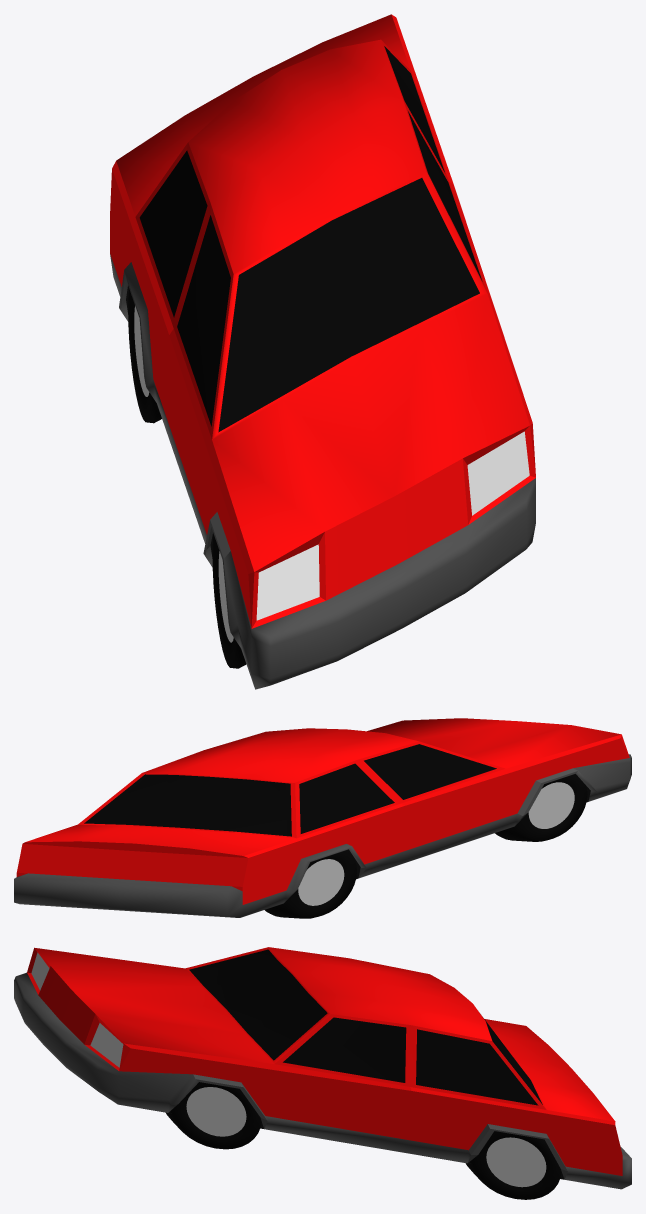
The model's file is car_smacked.fbx.
The picture shows the model from 3 angles, top to bottom: view 1: azimuth 30°, elevation 25°; view 2: azimuth 150°, elevation 25°; view 3: azimuth 270°, elevation 25°; orthographic projection. The views are drawn at different scales.
Parts seen in each view (by area): view 1: Car; view 2: Car; view 3: Car.
Part boxes in pixels (left/top/right/bottom): Car: left=110, top=14, right=535, bottom=689; Car: left=14, top=718, right=631, bottom=918; Car: left=14, top=947, right=631, bottom=1199.
Bounding box in the file's own units: 337 × 129 × 480.
